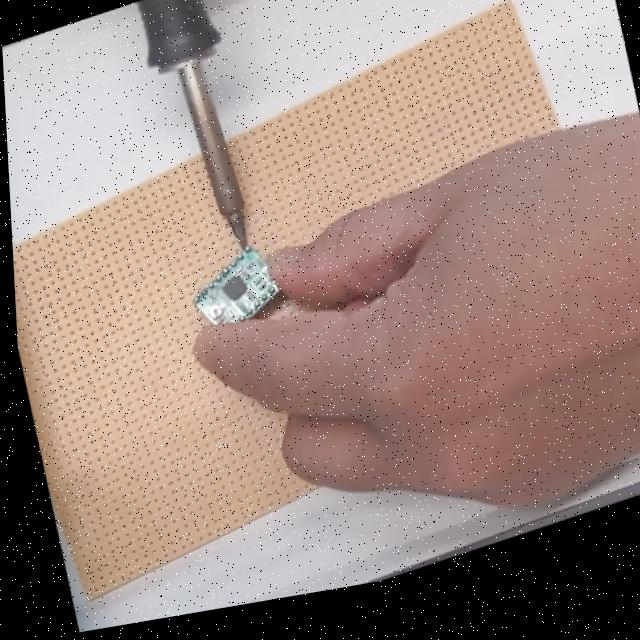Chip: (182, 235, 292, 344)
soldering_iron: (130, 0, 287, 275)
